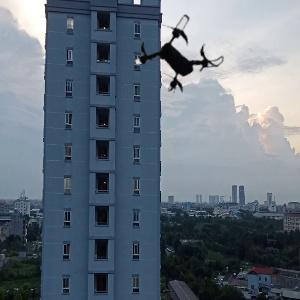drone: (136, 8, 227, 99)
